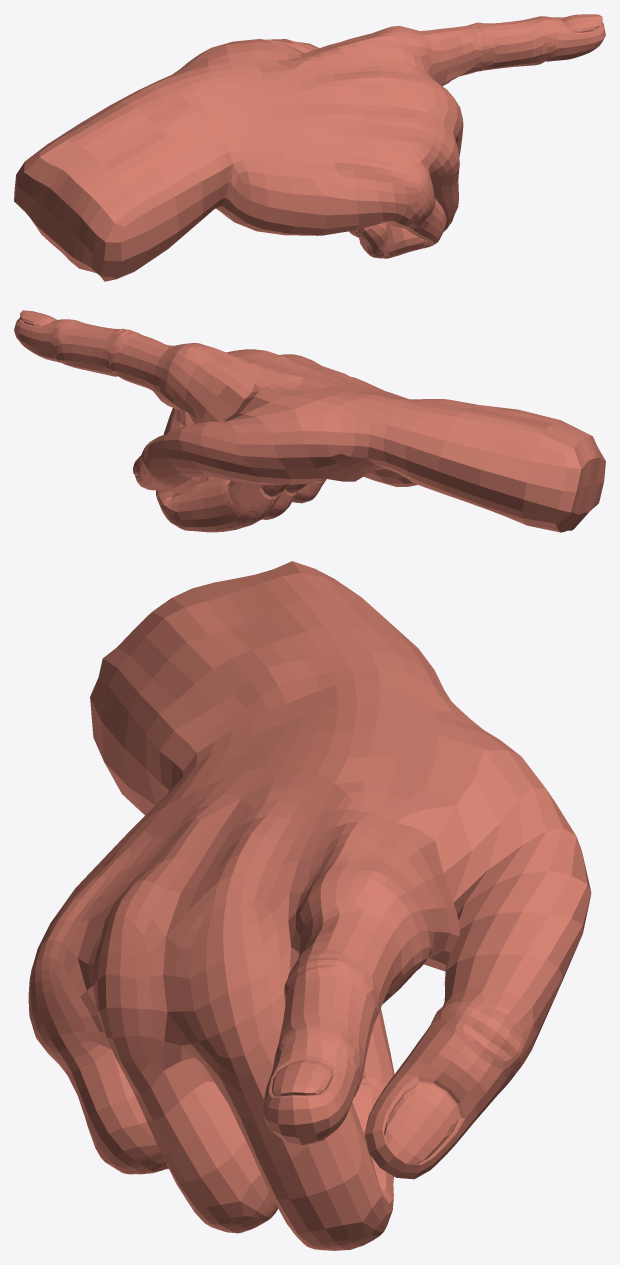
File: Zah.glb
3 renders of one model, top to bottom at view 1: azimuth 30°, elevation 25°; view 2: azimuth 150°, elevation 25°; view 3: azimuth 270°, elevation 25°, orthographic. The views are drawn at different scales.
Visible parts, largest first — view 1: ZBrushPolyMesh3D; view 2: ZBrushPolyMesh3D; view 3: ZBrushPolyMesh3D.
Part boxes in pixels (<box>): ZBrushPolyMesh3D: <box>14,14,605,281</box>; ZBrushPolyMesh3D: <box>14,310,605,532</box>; ZBrushPolyMesh3D: <box>28,561,591,1250</box>.
Size of the model in its own units: 5.16 by 1.62 by 2.22.
